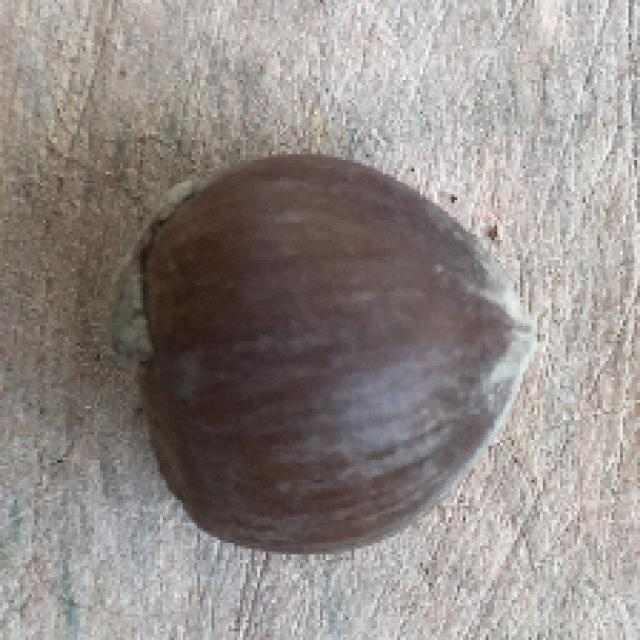DamagedHazelnut: (126, 153, 533, 557)
